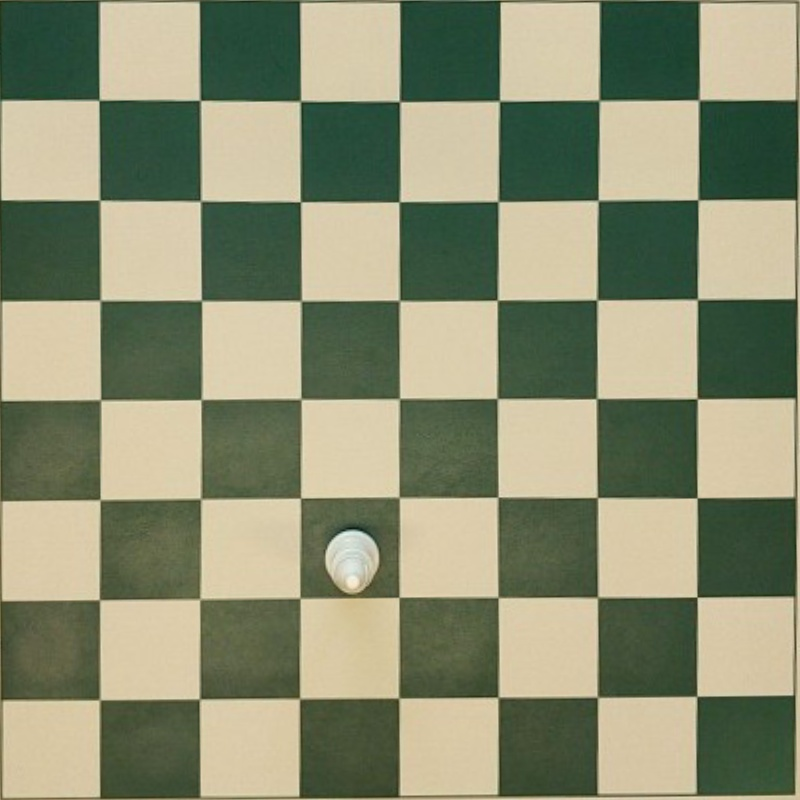white-bishop: (323, 528, 381, 595)
